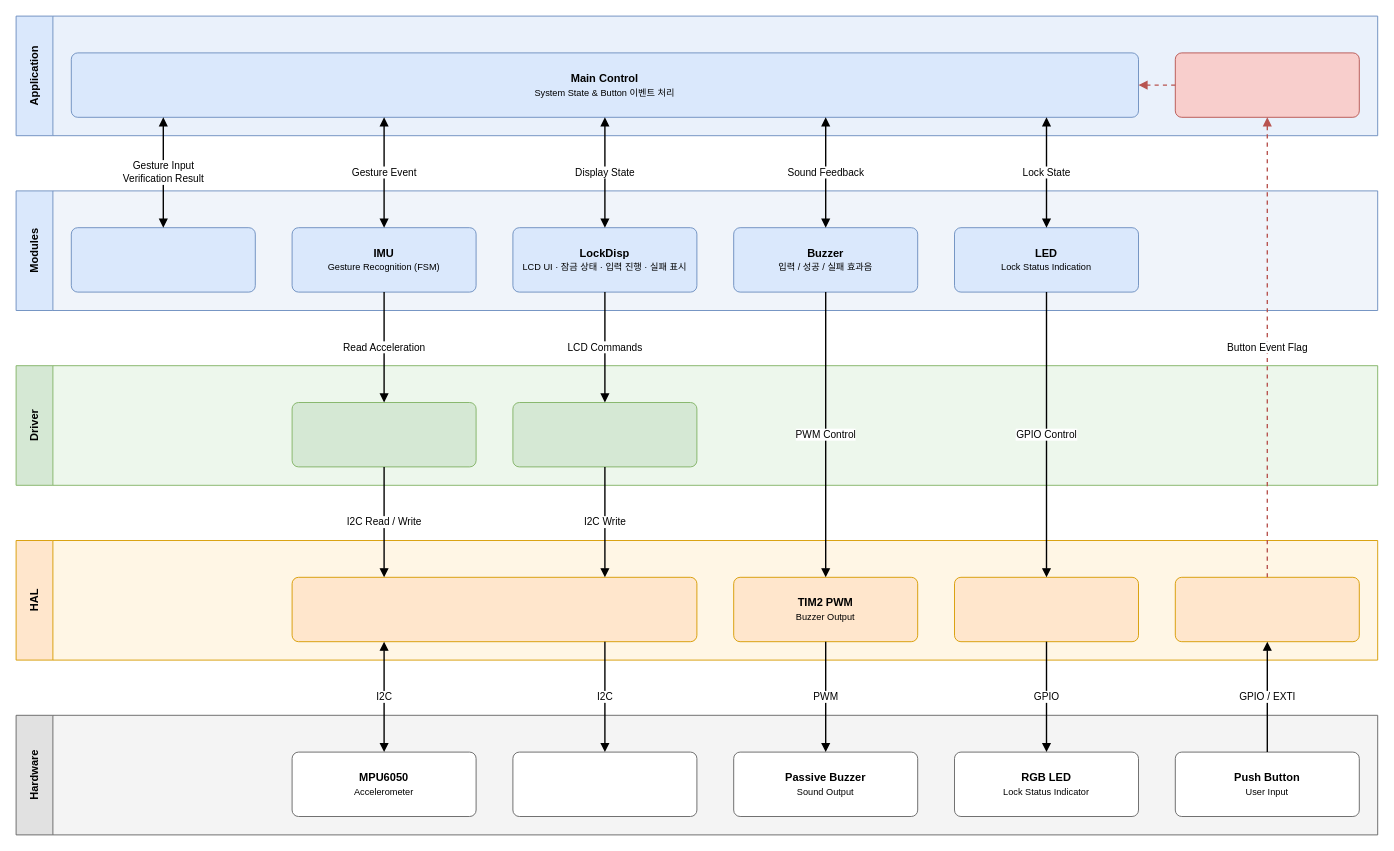
Image size: 1394x851. Some labels were removed from this diagram. Each missing label, with the centre of its shape:
Button ISR Button Event Notification: pixel 1266 84
GPIO EXTI Button Interrupt: pixel 1266 609
GPIO Output LED Control: pixel 1046 609
I2C1 MPU6050 / LCD: pixel 494 609
LCD 1602 I2C Display: pixel 604 783
LCD1602 I2C Driver LCD I2C Communication: pixel 604 434
MPU6050 Driver Accelerometer Data Acquisition: pixel 383 434
Password Password Storage & Verification: pixel 162 259
